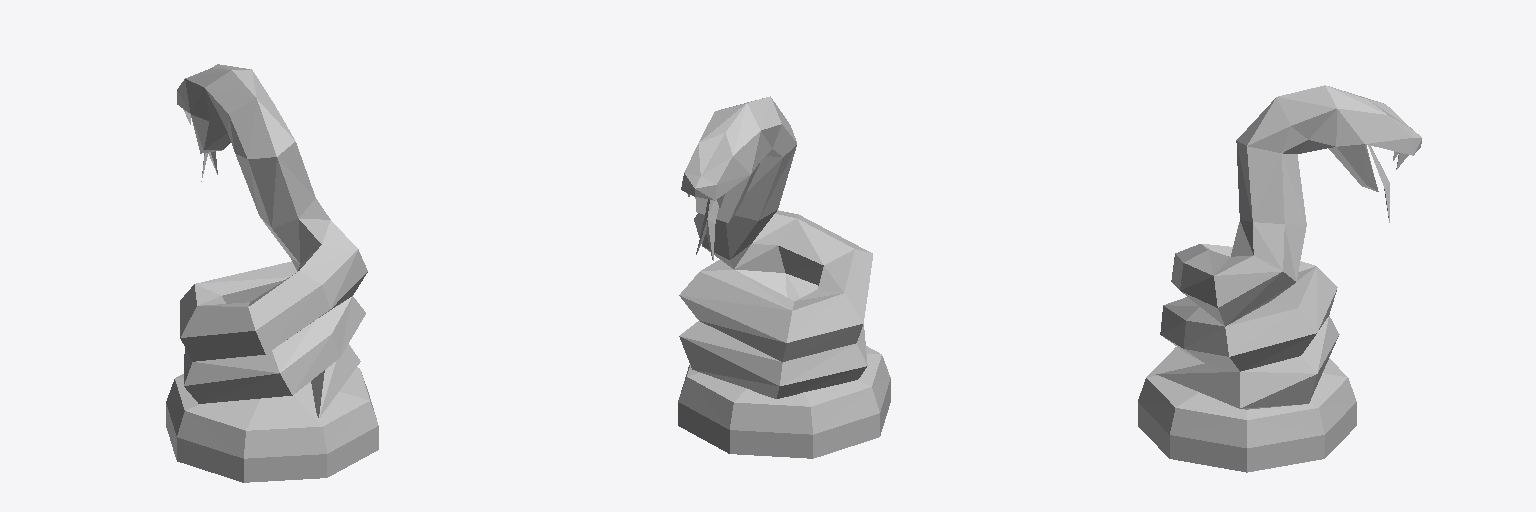
File: TopiarySnake.obj
The picture shows the model from 3 angles: view 1: azimuth 30°, elevation 25°; view 2: azimuth 150°, elevation 25°; view 3: azimuth 270°, elevation 25°; orthographic projection.
Visible parts, largest first — view 1: material_1, material_0; view 2: material_1, material_0; view 3: material_1, material_0.
Part boxes in pixels (bbox=[...]): material_1: bbox=[177, 64, 367, 417]; material_0: bbox=[166, 151, 378, 482]; material_1: bbox=[679, 96, 872, 398]; material_0: bbox=[678, 199, 890, 458]; material_1: bbox=[1156, 85, 1421, 409]; material_0: bbox=[1138, 145, 1389, 472].
Size of the model in its own units: 133 by 226 by 171.